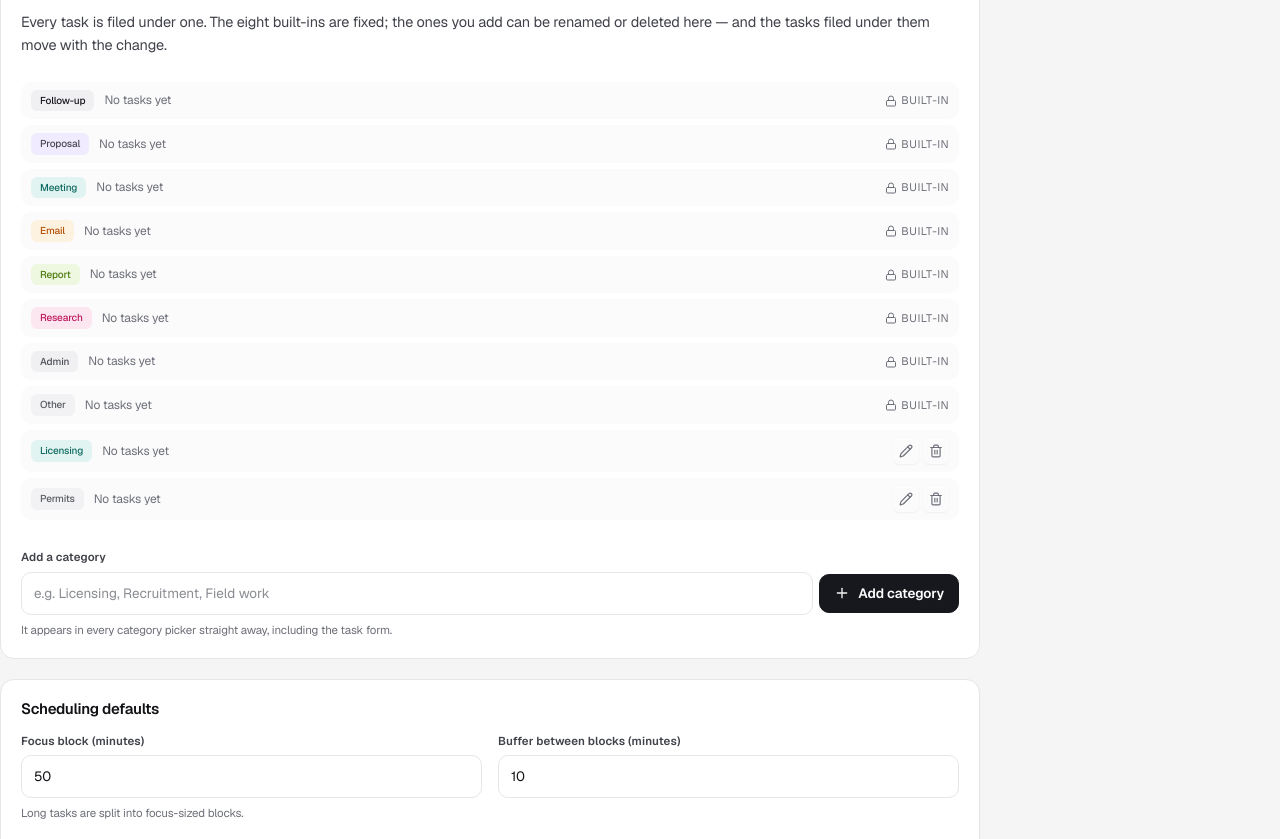
Categories in Settings › keeps the old name and says why when a rename clashes
The image size is (1280, 839).
(page scrolled)
Step 1. Click the button named "Edit Licensing" → (906, 451), box [893,438,919,464]
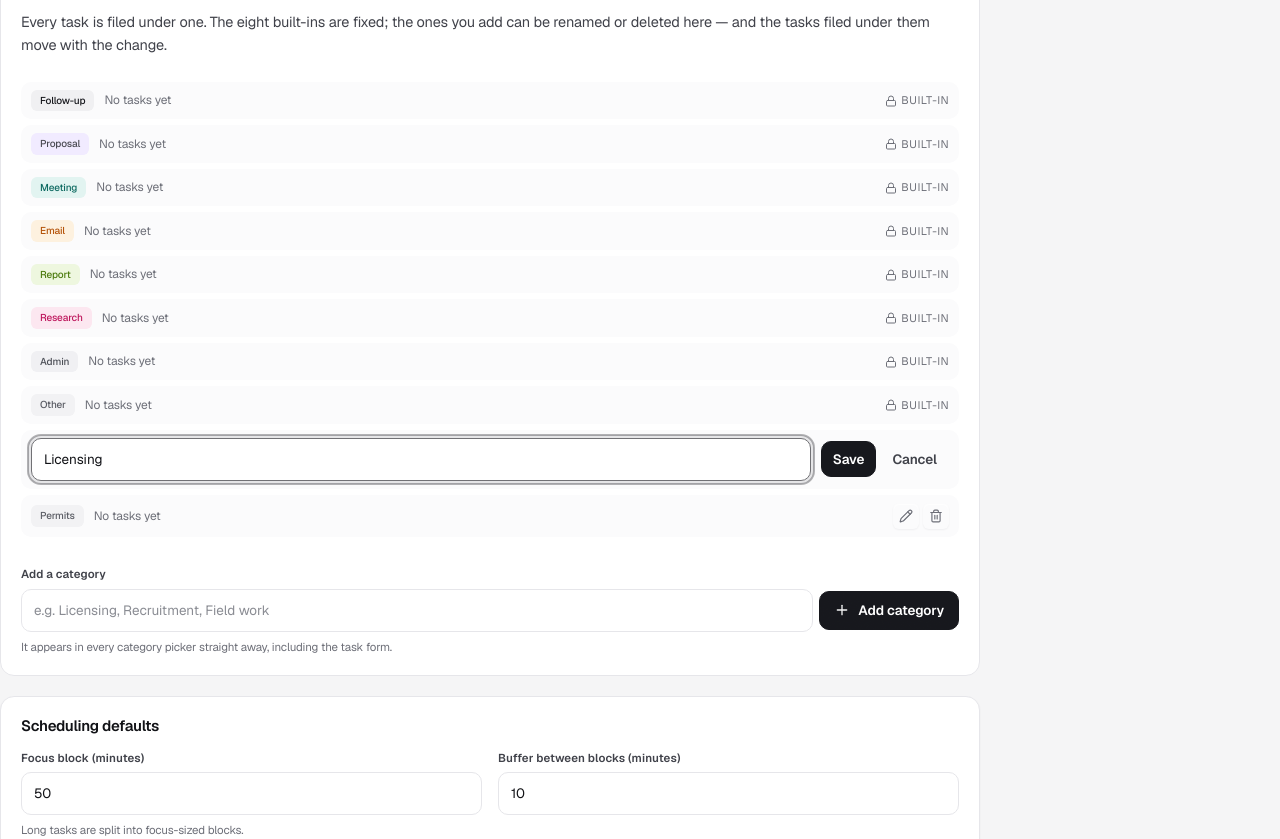
Step 2. Replace the text in the field named "Rename Licensing" with "Permits" → (421, 459), box [31,438,811,481]
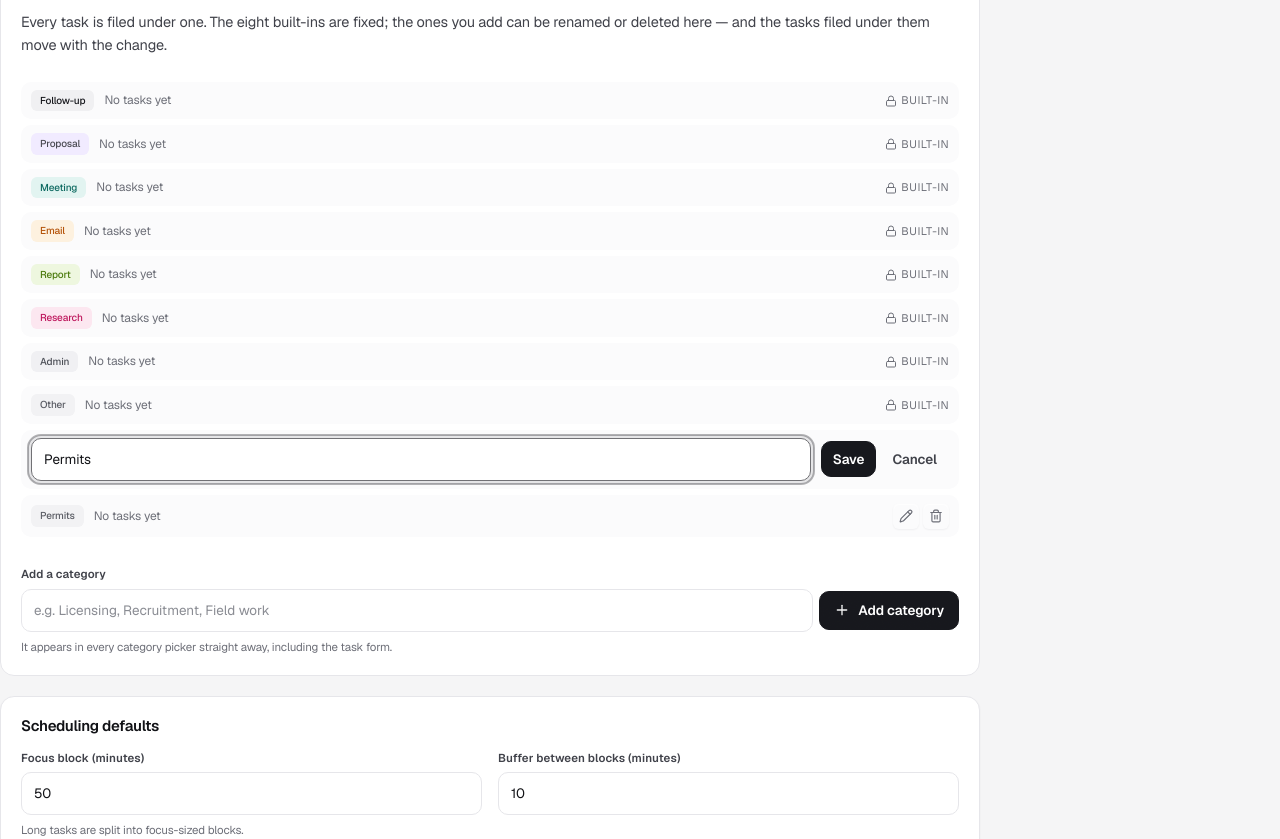
Step 3. Click the button "Save" → (849, 459), box [821,441,876,477]
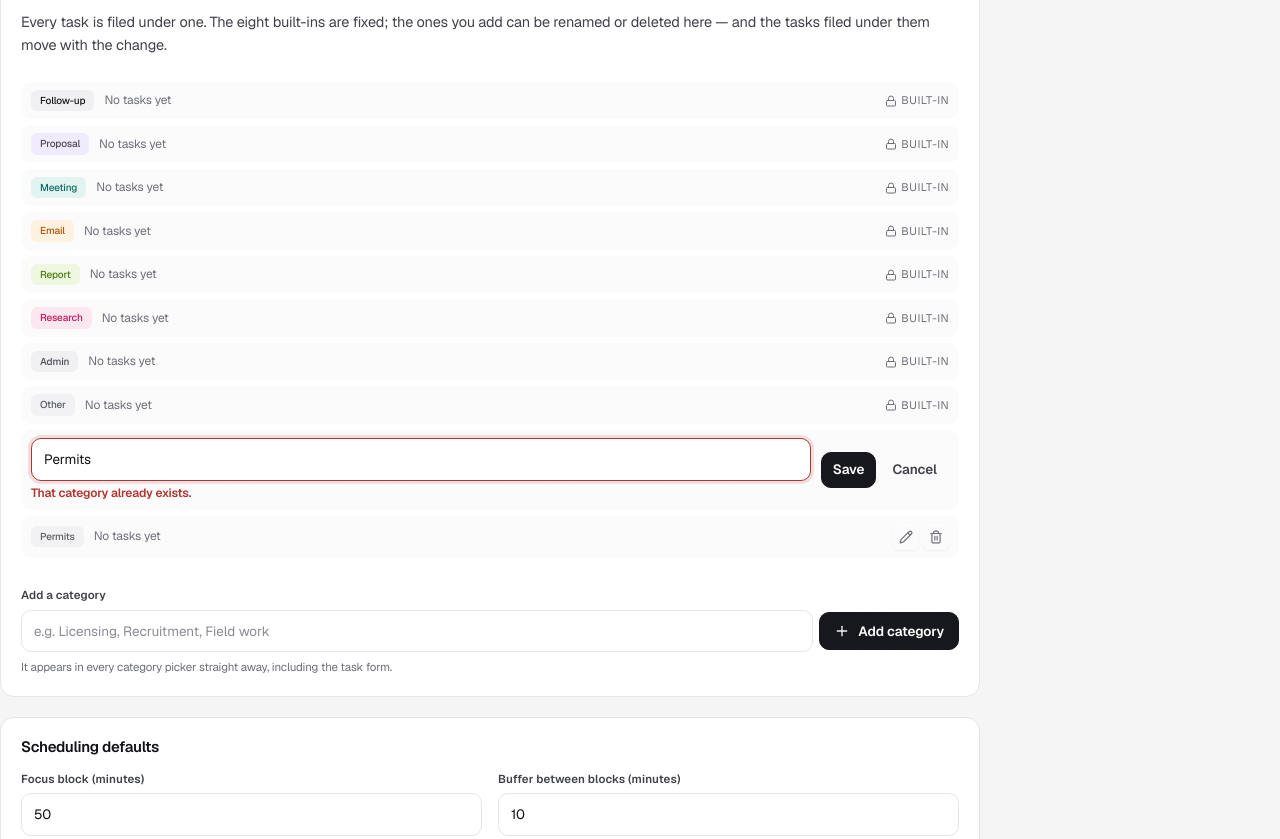
Now the text "That category already exists." is shown, box [31,485,191,501]
